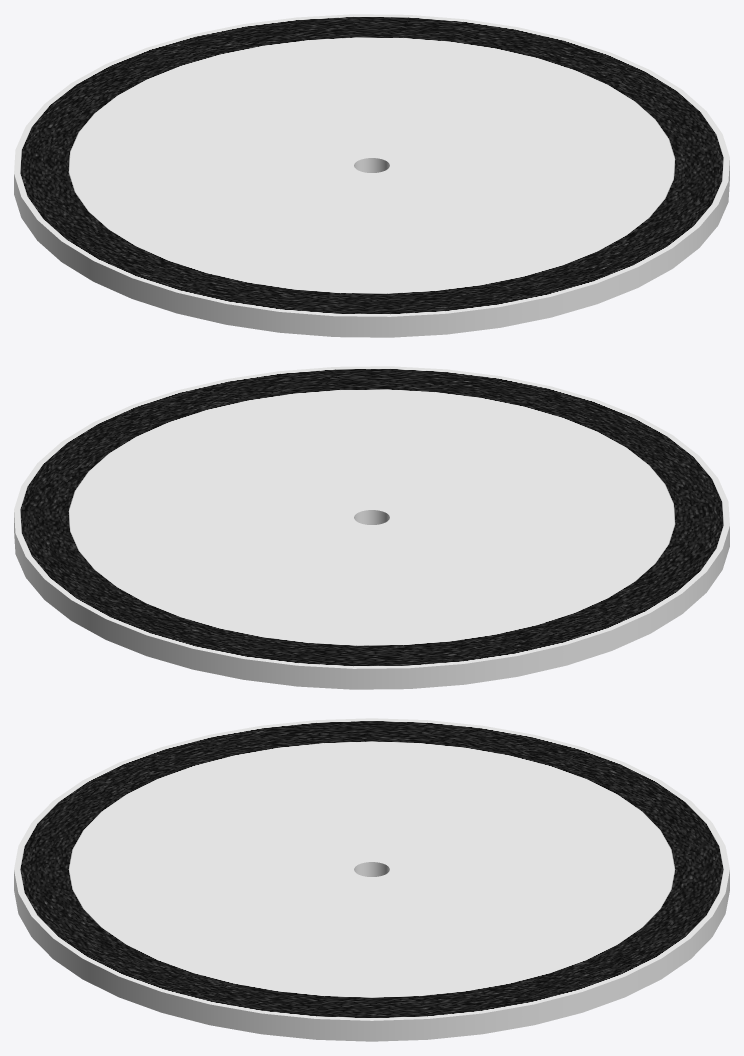
Rendered from disk3.obj.
3 views of the same model, one above another, from view 1: azimuth 30°, elevation 25°; view 2: azimuth 150°, elevation 25°; view 3: azimuth 270°, elevation 25° (orthographic).
Parts seen in each view (by area): view 1: disk3:pPipe2; view 2: disk3:pPipe2; view 3: disk3:pPipe2.
Boxes of the visible parts, left/top/right/bottom form: disk3:pPipe2: left=14, top=14, right=729, bottom=337; disk3:pPipe2: left=14, top=366, right=729, bottom=689; disk3:pPipe2: left=14, top=718, right=729, bottom=1041.
Bounding box in the file's own units: 6.09 × 0.1953 × 6.09.
Materials: 1 (1 with a texture image).
